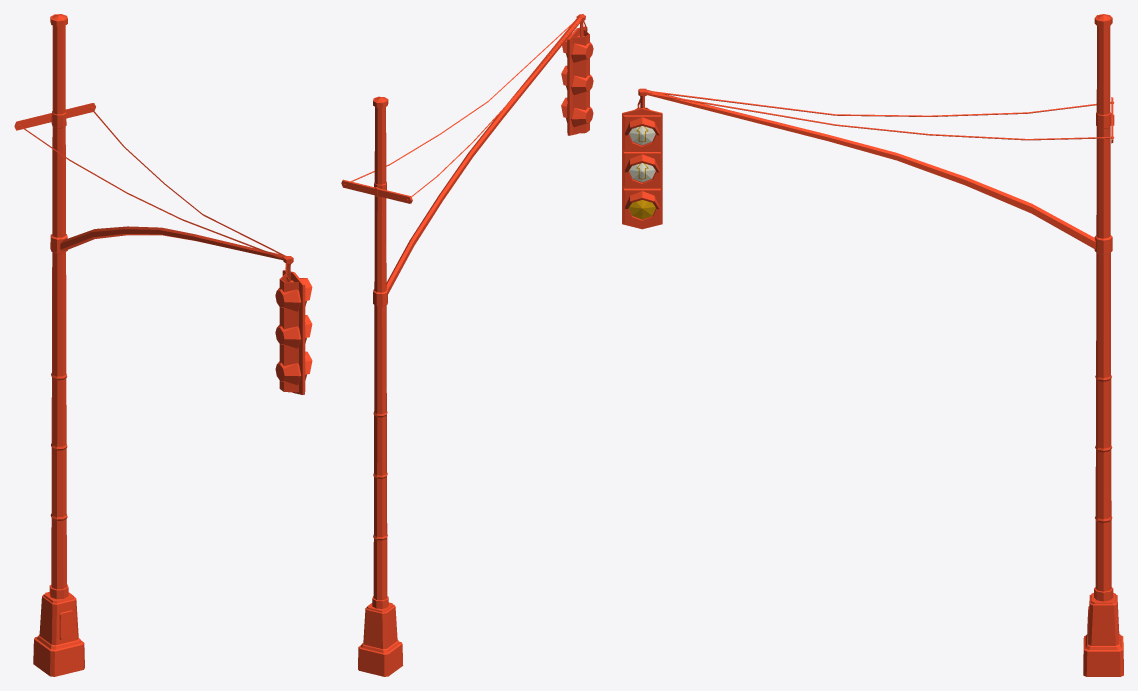
Rendered from SM_Light_C_City.fbx.
3 renders of one model, left to right at view 1: azimuth 30°, elevation 25°; view 2: azimuth 150°, elevation 25°; view 3: azimuth 270°, elevation 25°, orthographic. The views are drawn at different scales.
Parts seen in each view (by area): view 1: SM_Light_C_City; view 2: SM_Light_C_City; view 3: SM_Light_C_City.
Boxes of the visible parts, x1,y1,x2,y2 form: SM_Light_C_City: (14, 14, 312, 676); SM_Light_C_City: (341, 14, 593, 676); SM_Light_C_City: (622, 14, 1123, 676).
Size of the model in its own units: 0.8104 by 6.17 by 4.29.
